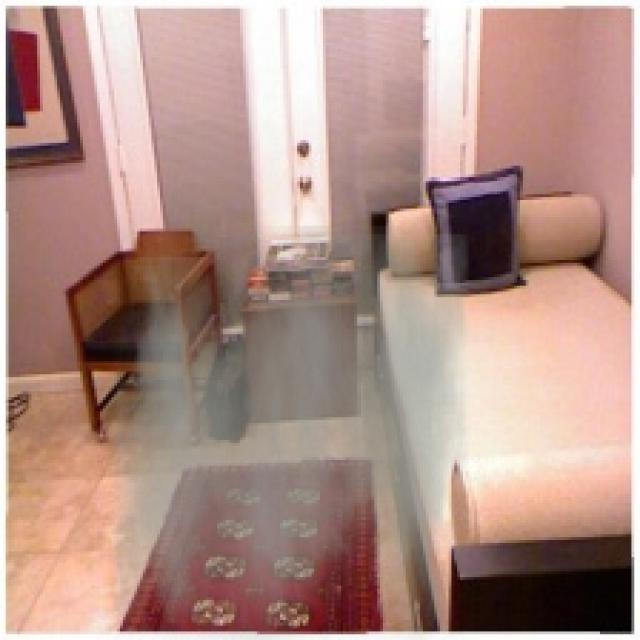Smoke: (111, 225, 472, 638)
